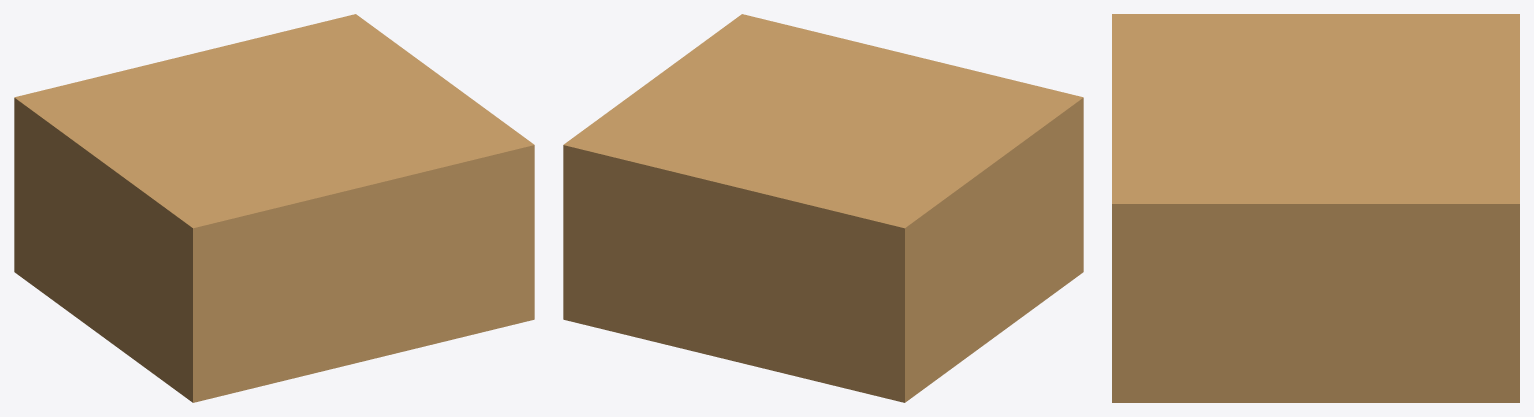
File: wall-cabinet-double.obj
3 renders of one model, left to right at view 1: azimuth 30°, elevation 25°; view 2: azimuth 150°, elevation 25°; view 3: azimuth 270°, elevation 25°, orthographic. The views are drawn at different scales.
Visible parts, largest first — view 1: wall-cabinet-double; view 2: wall-cabinet-double; view 3: wall-cabinet-double.
Boxes of the visible parts, <box> form: wall-cabinet-double: <box>14,14,534,402</box>; wall-cabinet-double: <box>563,14,1083,402</box>; wall-cabinet-double: <box>1112,14,1519,402</box>.
Size of the model in its own units: 33.08 by 16.92 by 30.
